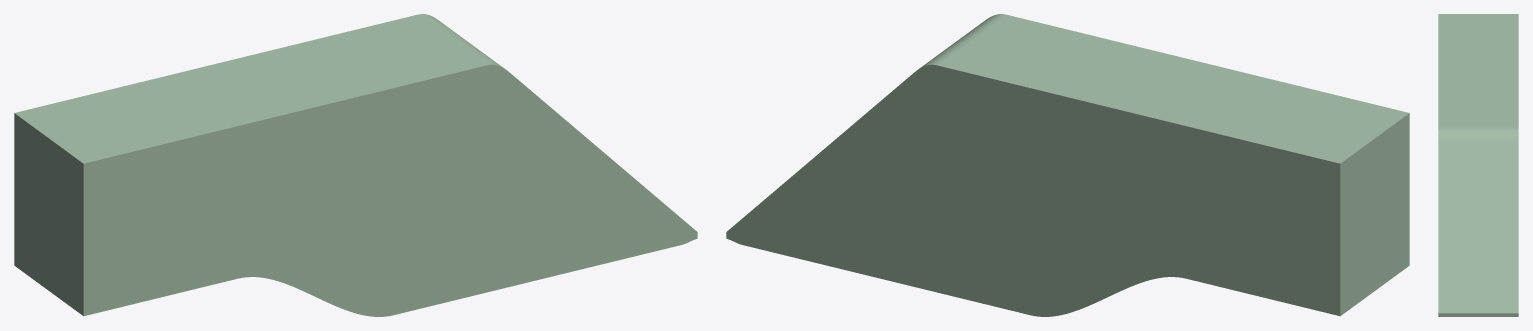
File: TOU_ANG_V002_candidate.glb
3 views of the same model, side by side, from view 1: azimuth 30°, elevation 25°; view 2: azimuth 150°, elevation 25°; view 3: azimuth 270°, elevation 25° (orthographic). The views are drawn at different scales.
Visible parts, largest first — view 1: TOU_ANG_V002_candidate; view 2: TOU_ANG_V002_candidate; view 3: TOU_ANG_V002_candidate.
Boxes of the visible parts, box(x1,y1,x2,y2) form: TOU_ANG_V002_candidate: box(14, 14, 697, 316); TOU_ANG_V002_candidate: box(726, 14, 1409, 316); TOU_ANG_V002_candidate: box(1438, 14, 1518, 316).
Bounding box in the file's own units: 0.7876 × 0.2784 × 0.154.
